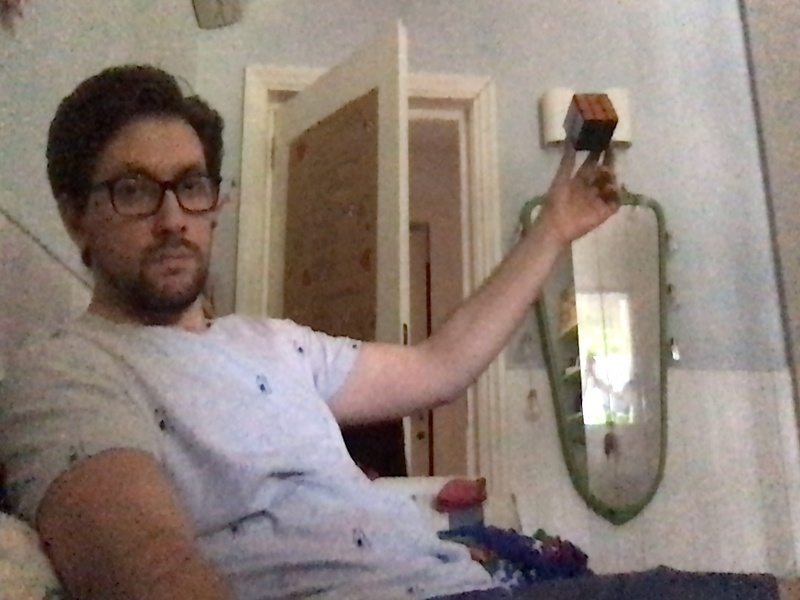rubik: (563, 92, 619, 153)
